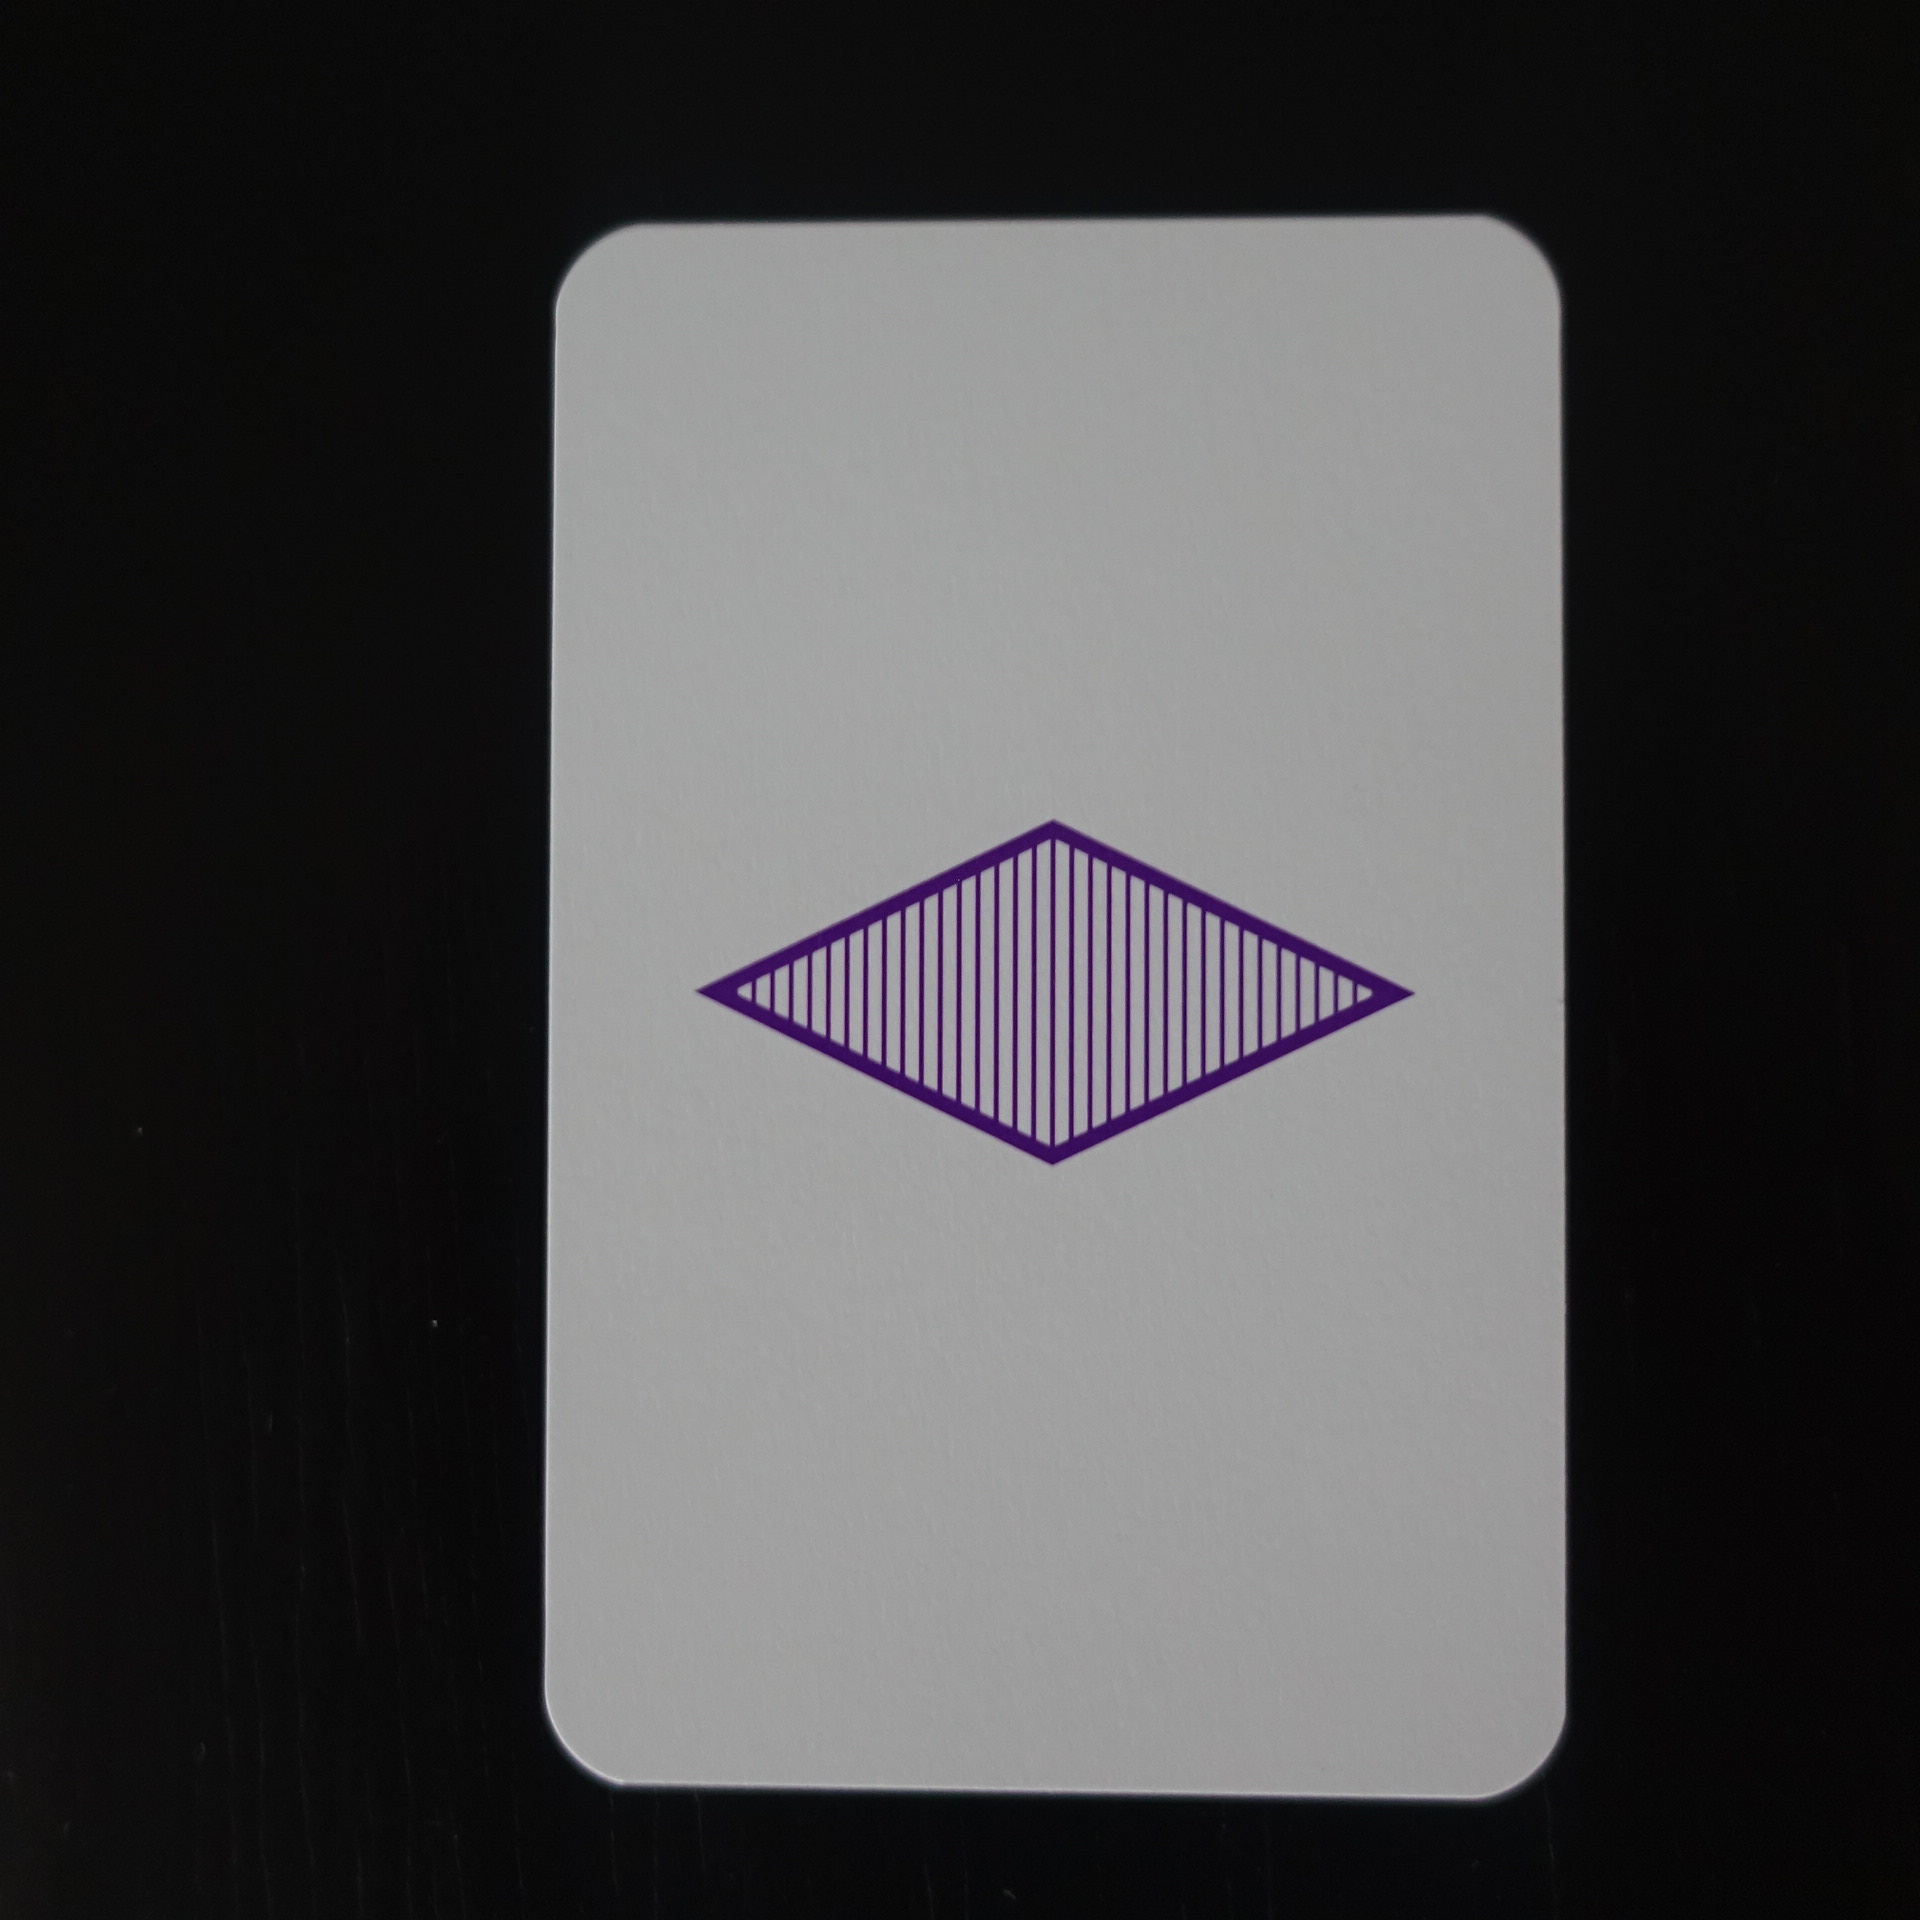c-1-h-d-p: (519, 199, 1591, 1820)
